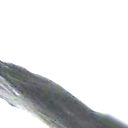crackTip: (1, 59, 128, 127)
